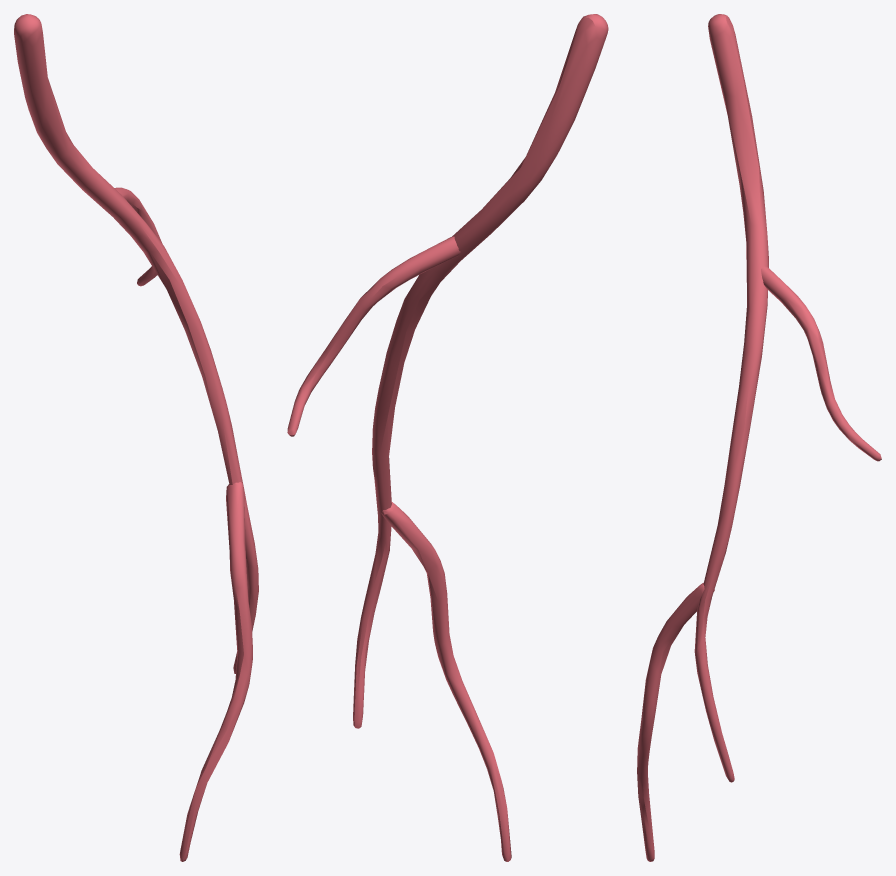
The model's file is fma70492_cx205.glb.
The picture shows the model from 3 angles, left to right: view 1: azimuth 30°, elevation 25°; view 2: azimuth 150°, elevation 25°; view 3: azimuth 270°, elevation 25°; orthographic projection. The views are drawn at different scales.
Visible parts, largest first — view 1: FMA70492_CX205; view 2: FMA70492_CX205; view 3: FMA70492_CX205.
Boxes of the visible parts, left/top/right/bottom form: FMA70492_CX205: left=14, top=14, right=258, bottom=861; FMA70492_CX205: left=287, top=14, right=608, bottom=861; FMA70492_CX205: left=637, top=14, right=881, bottom=861.
Size of the model in its own units: 0.0135 by 0.0462 by 0.0129.
